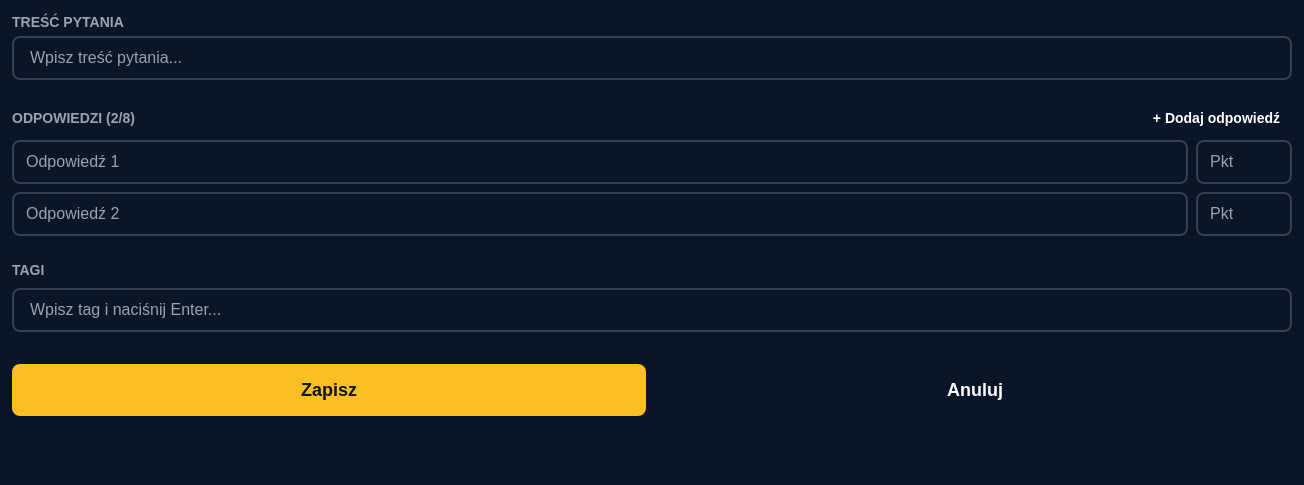
Scenario: QuestionEditorForm › should add answer row up to max and remove row above min
Note: Add a third answer
Click the button "+ Dodaj odpowiedź" at (1216, 118), box [1141,104,1292,132]
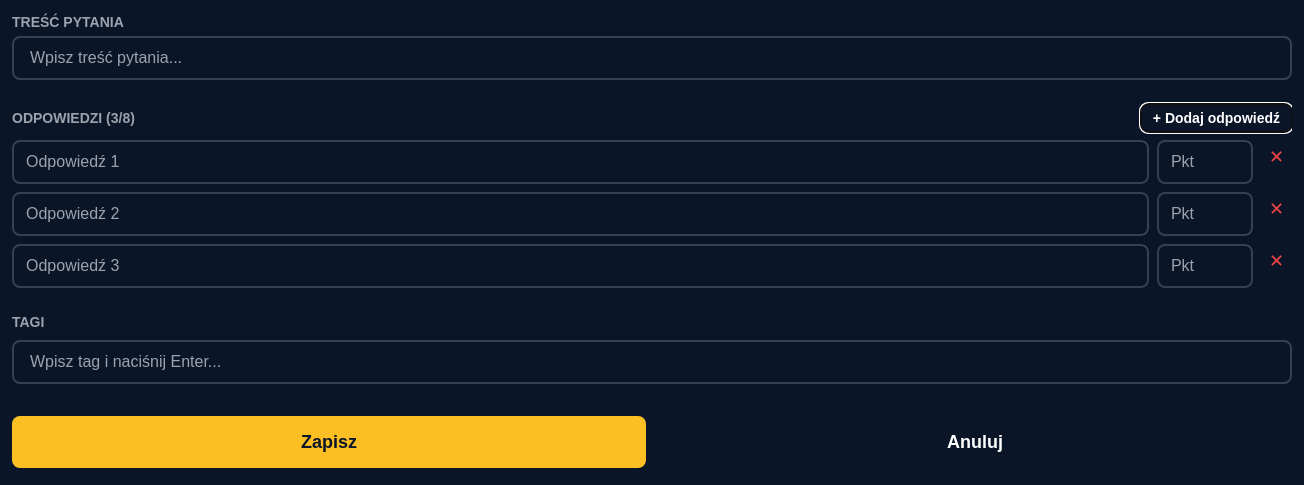
Expected: the number of fields with placeholder "Odpowiedź 1" is 3, [12,140,1149,184]; [12,192,1149,236]; [12,244,1149,288]
Note: Now remove button should appear
Click the button named "Usuń odpowiedź" at (1276, 157), box [1261,144,1292,170]
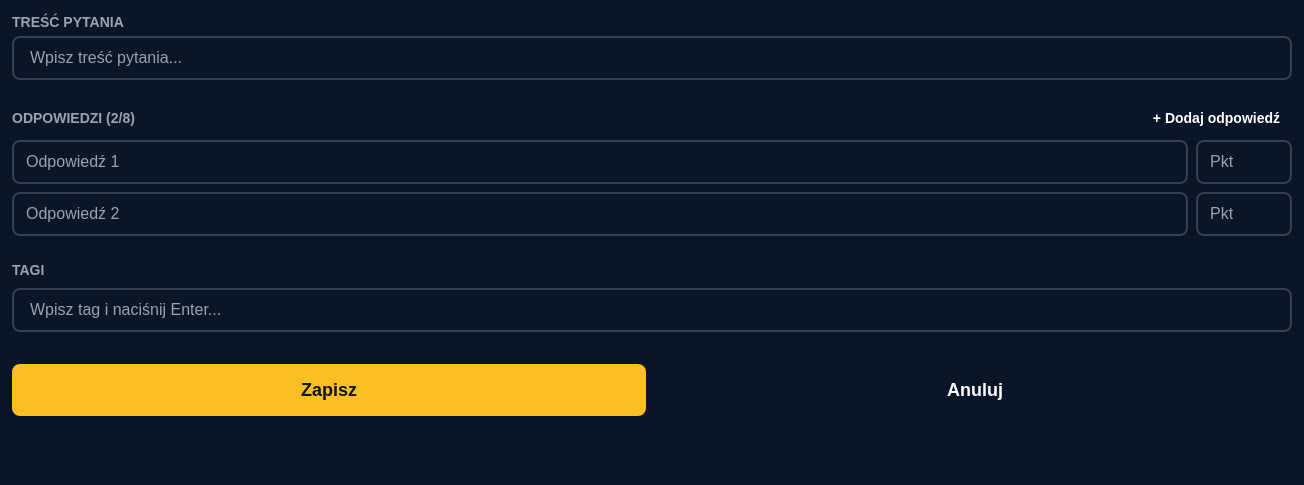
Expected: the number of fields with placeholder "Odpowiedź 1" is 2, [12,140,1188,184]; [12,192,1188,236]
